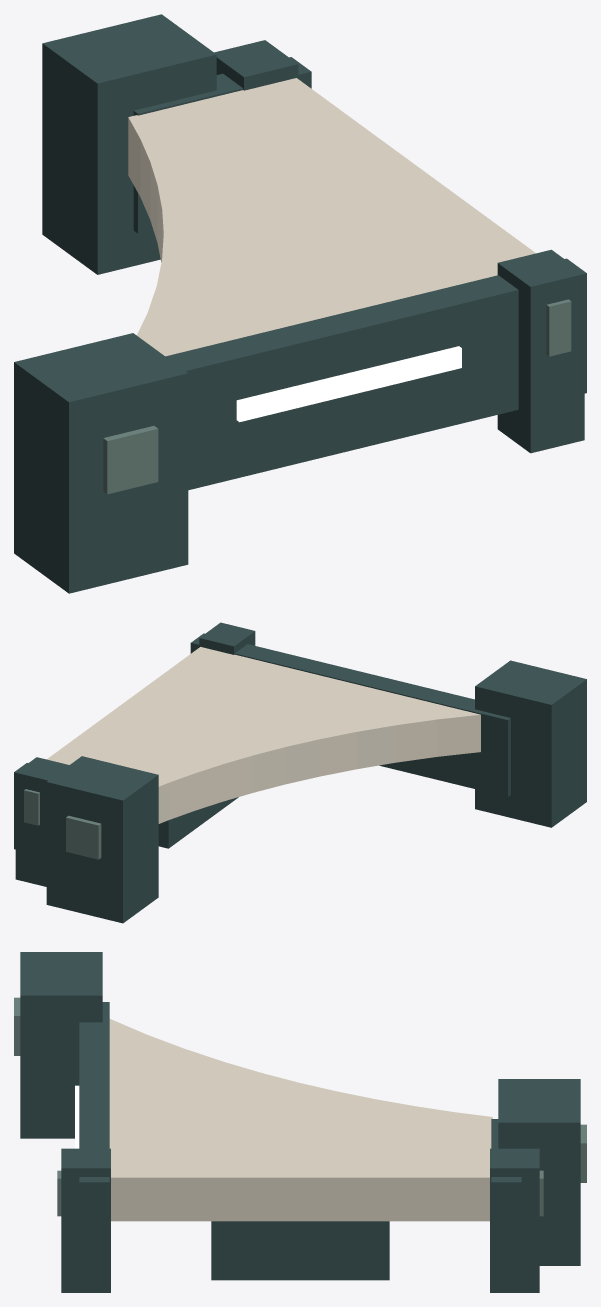
Rendered from Pier_Angled_30_lab.glb.
3 views of the same model, one above another, from view 1: azimuth 30°, elevation 25°; view 2: azimuth 150°, elevation 25°; view 3: azimuth 270°, elevation 25° (orthographic). The views are drawn at different scales.
Visible parts, largest first — view 1: Pier_Angled_30; view 2: Pier_Angled_30; view 3: Pier_Angled_30.
Part boxes in pixels (<box>): Pier_Angled_30: <box>14,14,586,593</box>; Pier_Angled_30: <box>14,622,586,923</box>; Pier_Angled_30: <box>14,952,586,1292</box>.
Bounding box in the file's own units: 3.51 × 1.15 × 4.17.
